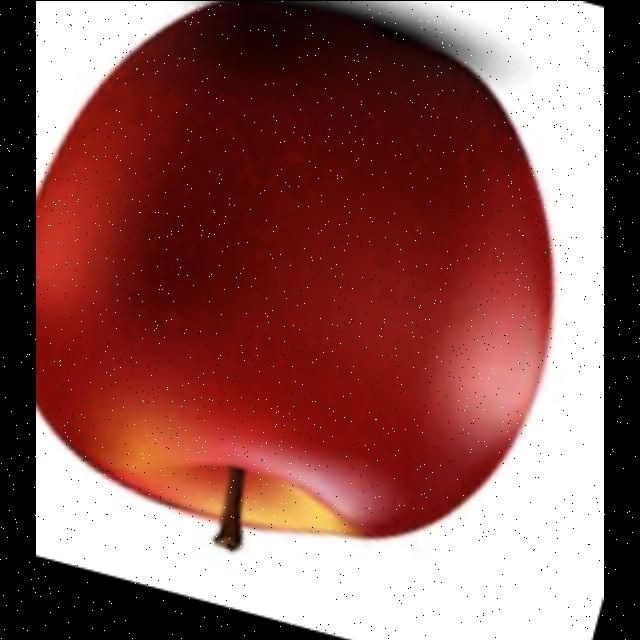Apel Segar: (37, 0, 566, 558)
